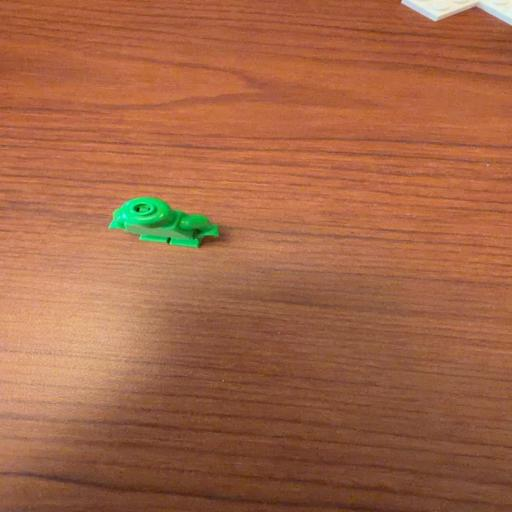UnoQ-minifig-detector: (109, 196, 231, 248)
